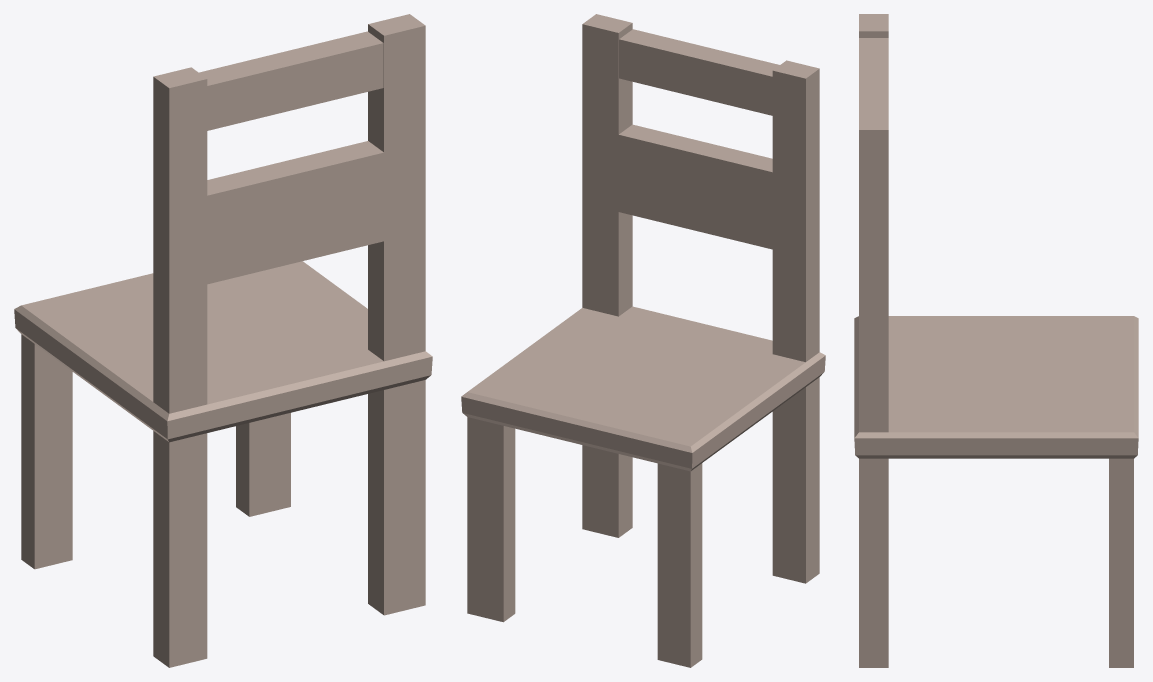
Rendered from Stuhl.fbx.
3 views of the same model, side by side, from view 1: azimuth 30°, elevation 25°; view 2: azimuth 150°, elevation 25°; view 3: azimuth 270°, elevation 25° (orthographic). The views are drawn at different scales.
Parts seen in each view (by area): view 1: Cube; view 2: Cube; view 3: Cube.
Boxes of the visible parts, <box> form: Cube: <box>14,14,432,667</box>; Cube: <box>461,14,825,667</box>; Cube: <box>854,14,1138,667</box>.
Size of the model in its own units: 102 by 214 by 102.
